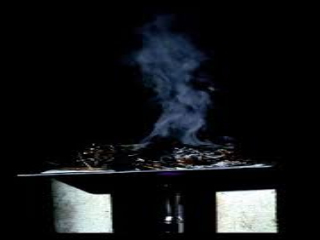smoke: (130, 38, 228, 156)
